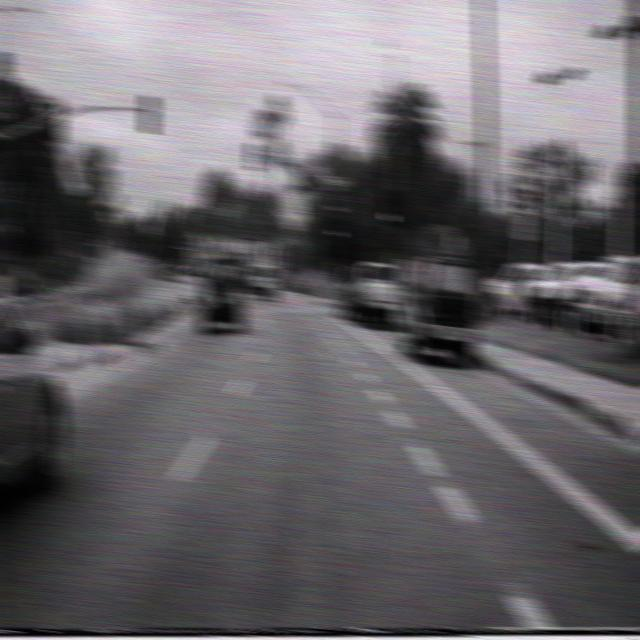speedLimit35: (509, 152, 544, 218)
